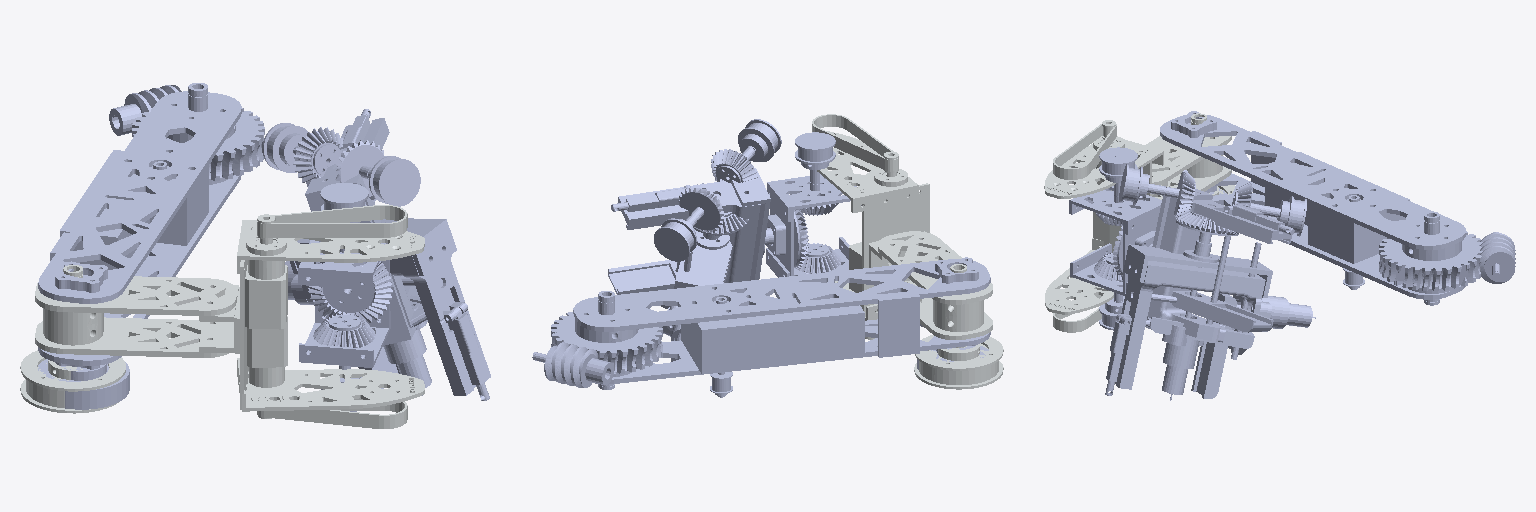
URDF robot description (ARM YPR GRIPPER_7):
<?xml version="1.0" encoding="utf-8"?>
<!-- This URDF was automatically created by SolidWorks to URDF Exporter! Originally created by [author] ([email redacted]) 
     Commit Version: 1.6.0-4-g7f85cfe  Build Version: 1.6.7995.38578
     For more information, please see http://wiki.ros.org/sw_urdf_exporter -->
<robot
  name="ARM YPR GRIPPER_7">
  <link
    name="base_link">
    <inertial>
      <origin
        xyz="1.12169088699127 -0.213529355221054 0.121140693558929"
        rpy="0 0 0" />
      <mass
        value="4.50779680589233" />
      <inertia
        ixx="0.0155744669511241"
        ixy="-0.000921990975110573"
        ixz="-0.000267312829592054"
        iyy="0.0144138530523192"
        iyz="-0.00166823235851846"
        izz="0.0123110151558508" />
    </inertial>
    <visual>
      <origin
        xyz="0 0 0"
        rpy="0 0 0" />
      <geometry>
        <mesh
          filename="package://ARM YPR GRIPPER_7/meshes/base_link.STL" />
      </geometry>
      <material
        name="">
        <color
          rgba="0.792156862745098 0.819607843137255 0.933333333333333 1" />
      </material>
    </visual>
    <collision>
      <origin
        xyz="0 0 0"
        rpy="0 0 0" />
      <geometry>
        <mesh
          filename="package://ARM YPR GRIPPER_7/meshes/base_link.STL" />
      </geometry>
    </collision>
  </link>
  <link
    name="turntable">
    <inertial>
      <origin
        xyz="0.105763980678447 -0.00089189198876527 -0.0260116131683339"
        rpy="0 0 0" />
      <mass
        value="2.52870378509003" />
      <inertia
        ixx="0.00641134887101375"
        ixy="0.000853146367351283"
        ixz="-9.61006870504373E-06"
        iyy="0.00486617833905661"
        iyz="2.16935043543991E-05"
        izz="0.00929271252291499" />
    </inertial>
    <visual>
      <origin
        xyz="0 0 0"
        rpy="0 0 0" />
      <geometry>
        <mesh
          filename="package://ARM YPR GRIPPER_7/meshes/turntable.STL" />
      </geometry>
      <material
        name="">
        <color
          rgba="0.650980392156863 0.619607843137255 0.588235294117647 1" />
      </material>
    </visual>
    <collision>
      <origin
        xyz="0 0 0"
        rpy="0 0 0" />
      <geometry>
        <mesh
          filename="package://ARM YPR GRIPPER_7/meshes/turntable.STL" />
      </geometry>
    </collision>
  </link>
  <joint
    name="turntable_joint"
    type="fixed">
    <origin
      xyz="1.35000046806038 -0.216 -0.311161541452805"
      rpy="1.5707963267949 -1.15332436277035 3.14159265358979" />
    <parent
      link="base_link" />
    <child
      link="turntable" />
    <axis
      xyz="0 0 0" />
  </joint>
  <link
    name="worm_pitch">
    <inertial>
      <origin
        xyz="-0.00975815373258329 -0.119432998209327 0.138678111763345"
        rpy="0 0 0" />
      <mass
        value="3.22088245146173" />
      <inertia
        ixx="0.0280751971325729"
        ixy="-3.59522261294568E-08"
        ixz="-5.70039309070446E-07"
        iyy="0.0158829956773126"
        iyz="0.0120530236922538"
        izz="0.0134222737428974" />
    </inertial>
    <visual>
      <origin
        xyz="0 0 0"
        rpy="0 0 0" />
      <geometry>
        <mesh
          filename="package://ARM YPR GRIPPER_7/meshes/worm_pitch.STL" />
      </geometry>
      <material
        name="">
        <color
          rgba="0.792156862745098 0.819607843137255 0.933333333333333 1" />
      </material>
    </visual>
    <collision>
      <origin
        xyz="0 0 0"
        rpy="0 0 0" />
      <geometry>
        <mesh
          filename="package://ARM YPR GRIPPER_7/meshes/worm_pitch.STL" />
      </geometry>
    </collision>
  </link>
  <joint
    name="pitch1_joint"
    type="fixed">
    <origin
      xyz="0.0735164068372525 0.077745638479509 -0.151720000000009"
      rpy="1.5707963267949 0 0.417471964024542" />
    <parent
      link="turntable" />
    <child
      link="worm_pitch" />
    <axis
      xyz="0 1 0" />
    <limit
      lower="0"
      upper="0"
      effort="0"
      velocity="0" />
  </joint>
  <link
    name="pulley">
    <inertial>
      <origin
        xyz="-0.0196065460523519 -0.019635619645173 -0.0321128890960278"
        rpy="0 0 0" />
      <mass
        value="1.1765100986821" />
      <inertia
        ixx="0.0013481180306053"
        ixy="-0.000524141829758074"
        ixz="-1.45228373458589E-11"
        iyy="0.0013502733799712"
        iyz="-2.43390966102712E-11"
        izz="0.00206338874473855" />
    </inertial>
    <visual>
      <origin
        xyz="0 0 0"
        rpy="0 0 0" />
      <geometry>
        <mesh
          filename="package://ARM YPR GRIPPER_7/meshes/pulley.STL" />
      </geometry>
      <material
        name="">
        <color
          rgba="0.898039215686275 0.917647058823529 0.929411764705882 1" />
      </material>
    </visual>
    <collision>
      <origin
        xyz="0 0 0"
        rpy="0 0 0" />
      <geometry>
        <mesh
          filename="package://ARM YPR GRIPPER_7/meshes/pulley.STL" />
      </geometry>
    </collision>
  </link>
  <joint
    name="pitch2_joint"
    type="fixed">
    <origin
      xyz="-0.0599999999999885 -0.289979355471976 0.310703996433991"
      rpy="1.5707963267949 -1.37469687411002 -1.5707963267949" />
    <parent
      link="worm_pitch" />
    <child
      link="pulley" />
    <axis
      xyz="0.194845033127278 -0.980834039512103 0" />
    <limit
      lower="0"
      upper="0"
      effort="0"
      velocity="0" />
  </joint>
  <link
    name="pitch">
    <inertial>
      <origin
        xyz="0.0522498739286487 0.0742869890543516 -4.31015914070798E-07"
        rpy="0 0 0" />
      <mass
        value="0.408155013631044" />
      <inertia
        ixx="0.000242488546573638"
        ixy="1.92181722690311E-08"
        ixz="-7.90453575931434E-05"
        iyy="0.000461066848921683"
        iyz="-3.47212002193024E-09"
        izz="0.000428372044285435" />
    </inertial>
    <visual>
      <origin
        xyz="0 0 0"
        rpy="0 0 0" />
      <geometry>
        <mesh
          filename="package://ARM YPR GRIPPER_7/meshes/pitch.STL" />
      </geometry>
      <material
        name="">
        <color
          rgba="0.792156862745098 0.819607843137255 0.933333333333333 1" />
      </material>
    </visual>
    <collision>
      <origin
        xyz="0 0 0"
        rpy="0 0 0" />
      <geometry>
        <mesh
          filename="package://ARM YPR GRIPPER_7/meshes/pitch.STL" />
      </geometry>
    </collision>
  </link>
  <joint
    name="ypr_pitch_joint"
    type="fixed">
    <origin
      xyz="-0.190507127605395 -0.177675757893486 -0.112004491525251"
      rpy="0.904678468556746 -1.5707963267949 0" />
    <parent
      link="pulley" />
    <child
      link="pitch" />
    <axis
      xyz="0 0.452902695109985 0.89155995242166" />
    <limit
      lower="0"
      upper="0"
      effort="0"
      velocity="0" />
  </joint>
  <link
    name="yaw">
    <inertial>
      <origin
        xyz="0.0442487773112467 0.00778744467840287 0.0245830125770947"
        rpy="0 0 0" />
      <mass
        value="0.408155014372176" />
      <inertia
        ixx="0.000242488546710915"
        ixy="7.53609876499588E-05"
        ixz="-2.38514248033736E-05"
        iyy="0.000431355452785603"
        iyz="9.41494767376666E-06"
        izz="0.000458083440689525" />
    </inertial>
    <visual>
      <origin
        xyz="0 0 0"
        rpy="0 0 0" />
      <geometry>
        <mesh
          filename="package://ARM YPR GRIPPER_7/meshes/yaw.STL" />
      </geometry>
      <material
        name="">
        <color
          rgba="0.776470588235294 0.756862745098039 0.737254901960784 1" />
      </material>
    </visual>
    <collision>
      <origin
        xyz="0 0 0"
        rpy="0 0 0" />
      <geometry>
        <mesh
          filename="package://ARM YPR GRIPPER_7/meshes/yaw.STL" />
      </geometry>
    </collision>
  </link>
  <joint
    name="ypr_yaw_joint"
    type="fixed">
    <origin
      xyz="0.00800109666249249 0.0485000000000009 0"
      rpy="-1.26403231730027 0 0" />
    <parent
      link="pitch" />
    <child
      link="yaw" />
    <axis
      xyz="0.725299999999981 0.482581415280126 0.490969492459825" />
    <limit
      lower="0"
      upper="0"
      effort="0"
      velocity="0" />
  </joint>
  <link
    name="roll">
    <inertial>
      <origin
        xyz="0.0102395892134093 0.0342291778328889 -0.0785773933031163"
        rpy="0 0 0" />
      <mass
        value="0.830943621943882" />
      <inertia
        ixx="0.00114743076893464"
        ixy="-0.000112985302134803"
        ixz="1.50857764313845E-05"
        iyy="0.000802760516824962"
        iyz="5.40762194722463E-05"
        izz="0.000737638625090162" />
    </inertial>
    <visual>
      <origin
        xyz="0 0 0"
        rpy="0 0 0" />
      <geometry>
        <mesh
          filename="package://ARM YPR GRIPPER_7/meshes/roll.STL" />
      </geometry>
      <material
        name="">
        <color
          rgba="0.792156862745098 0.819607843137255 0.933333333333333 1" />
      </material>
    </visual>
    <collision>
      <origin
        xyz="0 0 0"
        rpy="0 0 0" />
      <geometry>
        <mesh
          filename="package://ARM YPR GRIPPER_7/meshes/roll.STL" />
      </geometry>
    </collision>
  </link>
  <joint
    name="ypr_roll_joint"
    type="fixed">
    <origin
      xyz="-0.018789 0.059671 0.119"
      rpy="-1.6847 0.57798 1.2015" />
    <parent
      link="yaw" />
    <child
      link="roll" />
    <axis
      xyz="0 0 0" />
    <limit
      lower="0"
      upper="0"
      effort="0"
      velocity="0" />
  </joint>
  <link
    name="grip">
    <inertial>
      <origin
        xyz="-0.0180313760559689 0.019311990294276 0.000940365992438297"
        rpy="0 0 0" />
      <mass
        value="0.134543517946272" />
      <inertia
        ixx="0.000103933868709755"
        ixy="4.82164127122457E-05"
        ixz="-1.53116119866975E-06"
        iyy="9.73121491800792E-05"
        iyz="1.6399064672535E-06"
        izz="0.000126256855074672" />
    </inertial>
    <visual>
      <origin
        xyz="0 0 0"
        rpy="0 0 0" />
      <geometry>
        <mesh
          filename="package://ARM YPR GRIPPER_7/meshes/grip.STL" />
      </geometry>
      <material
        name="">
        <color
          rgba="0.792156862745098 0.819607843137255 0.933333333333333 1" />
      </material>
    </visual>
    <collision>
      <origin
        xyz="0 0 0"
        rpy="0 0 0" />
      <geometry>
        <mesh
          filename="package://ARM YPR GRIPPER_7/meshes/grip.STL" />
      </geometry>
    </collision>
  </link>
  <joint
    name="gripper"
    type="fixed">
    <origin
      xyz="0 0 -0.13773"
      rpy="0 0 2.1015" />
    <parent
      link="roll" />
    <child
      link="grip" />
    <axis
      xyz="0 0 0" />
  </joint>
</robot>

--- What the picture shows (computed from the rendered views, not written in the file) ---
3 views of the same robot in one strip: view 1: azimuth 30°, elevation 25°; view 2: azimuth 150°, elevation 25°; view 3: azimuth 270°, elevation 25° (orthographic).
Model ARM YPR GRIPPER_7 with 8 links and 7 joints (7 fixed), rooted at base_link, posed every joint at zero.
Visible links, largest first — view 1: pulley, worm_pitch, roll, pitch; view 2: worm_pitch, pulley, pitch, roll; view 3: worm_pitch, pitch, roll, pulley, grip.
Boxes of the visible links, x1,y1,x2,y2 form: pulley: (20, 205, 424, 428); worm_pitch: (38, 83, 264, 409); roll: (262, 123, 490, 400); pitch: (298, 109, 431, 411); worm_pitch: (532, 257, 990, 397); pulley: (812, 114, 1003, 389); pitch: (608, 132, 861, 308); roll: (654, 119, 781, 361); worm_pitch: (1160, 111, 1515, 305); pitch: (1069, 147, 1294, 400); roll: (1105, 164, 1315, 398); pulley: (1044, 113, 1234, 332); grip: (1147, 242, 1261, 359).
Size in the robot's own frame: 0.4917 by 0.5867 by 0.298 metres.
5 mesh visuals loaded from 8 distinct referenced files (5 binary STL); not drawn: 3 (reference not matched to a file when rendering).
